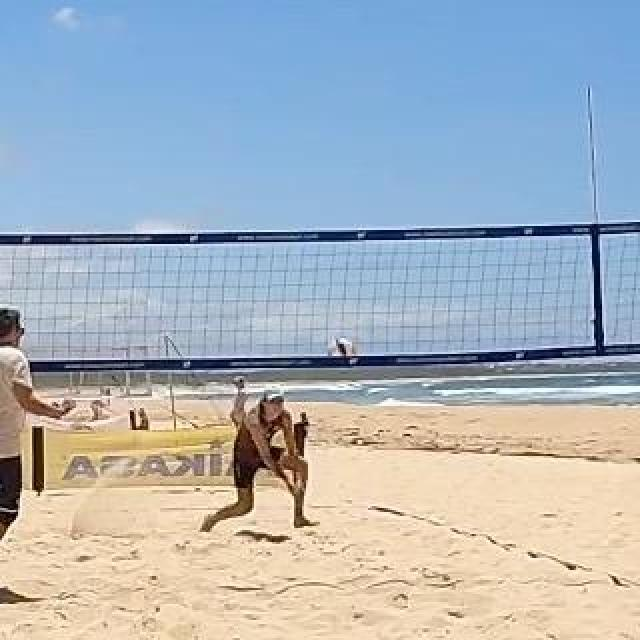volleyball: (329, 337, 357, 363)
